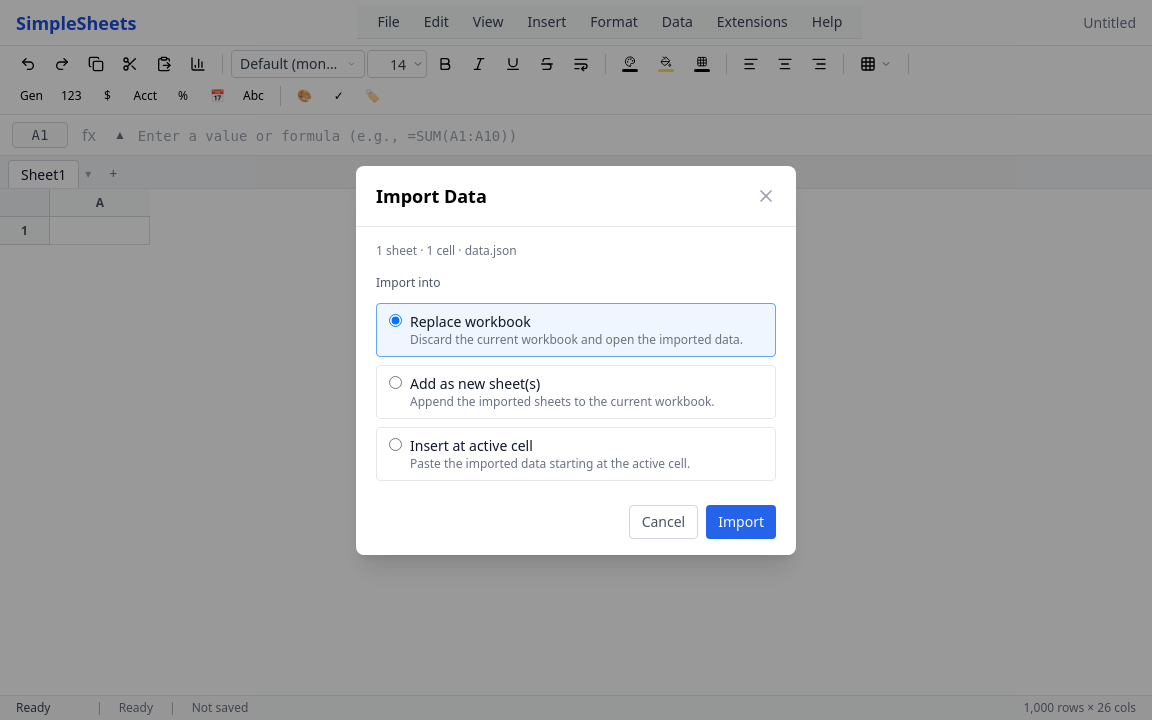
Scenario: App import scope dialog › appends sheets when Add as new sheet(s) is chosen
Earlier steps of the test are not shown.
Click the radio button labelled "Add as new sheet".
click(396, 382)  # box left=389, top=376, right=402, bottom=388
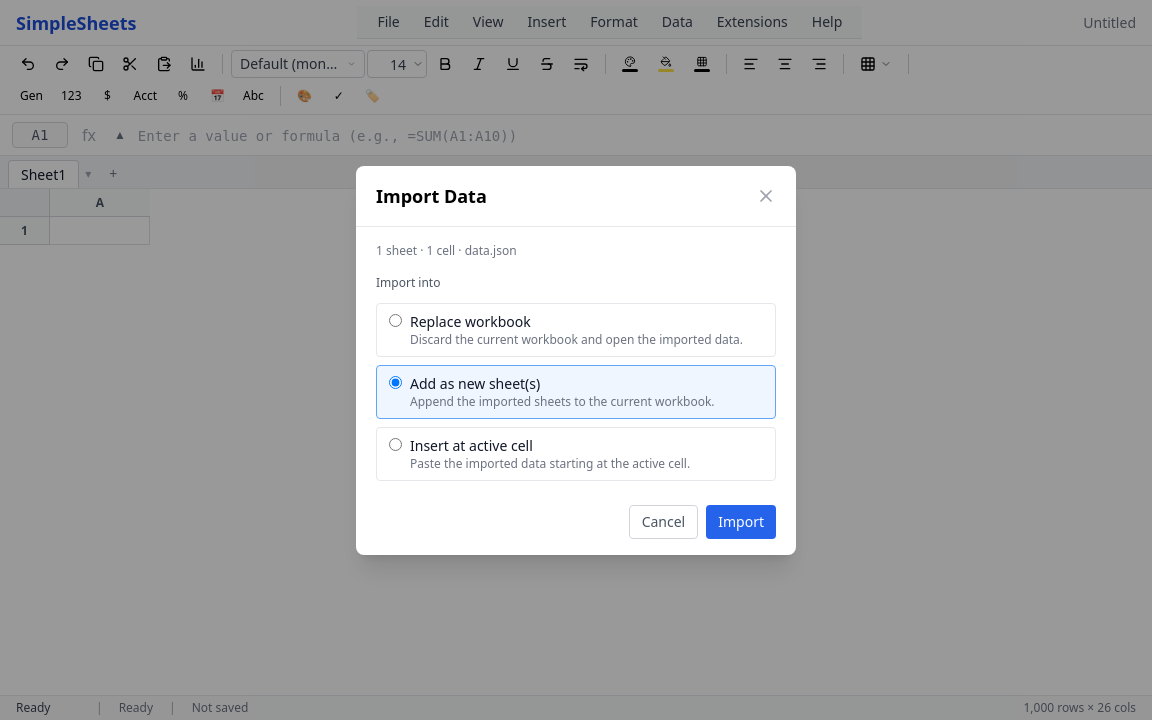
Click the button "Import".
click(741, 522)  # box left=706, top=504, right=776, bottom=538
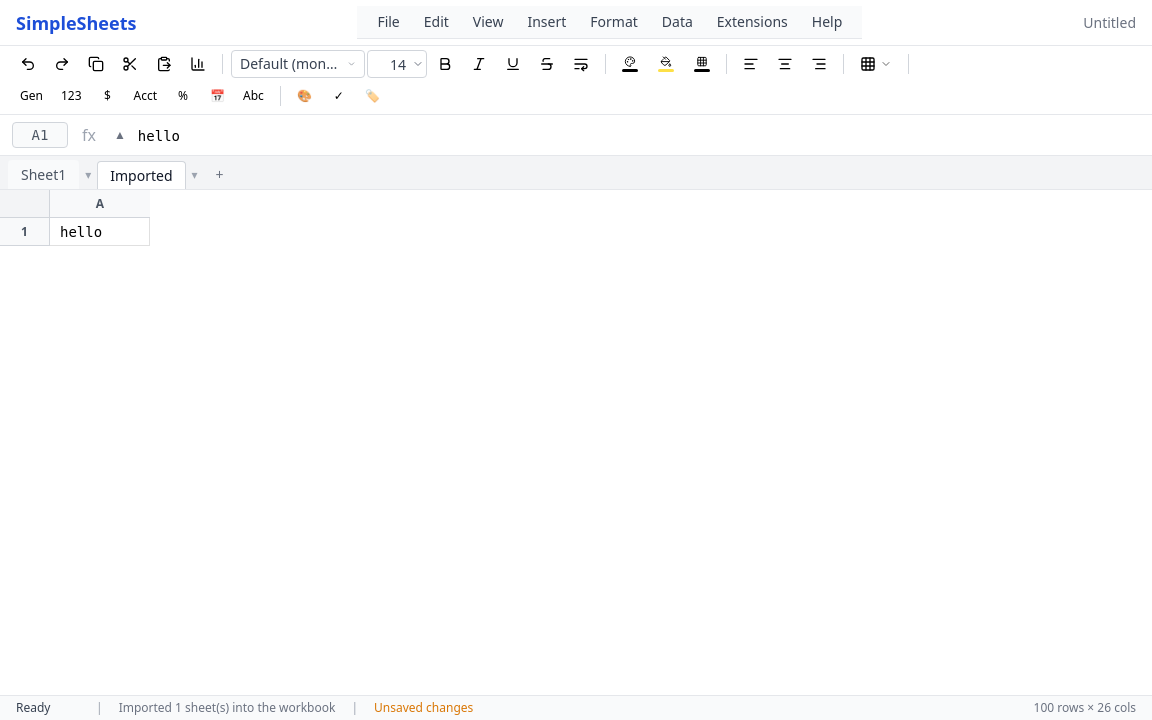
Expected: the text with test id "status-message" reads "Imported 1 sheet(s) into the workbook", left=119, top=699, right=335, bottom=716
